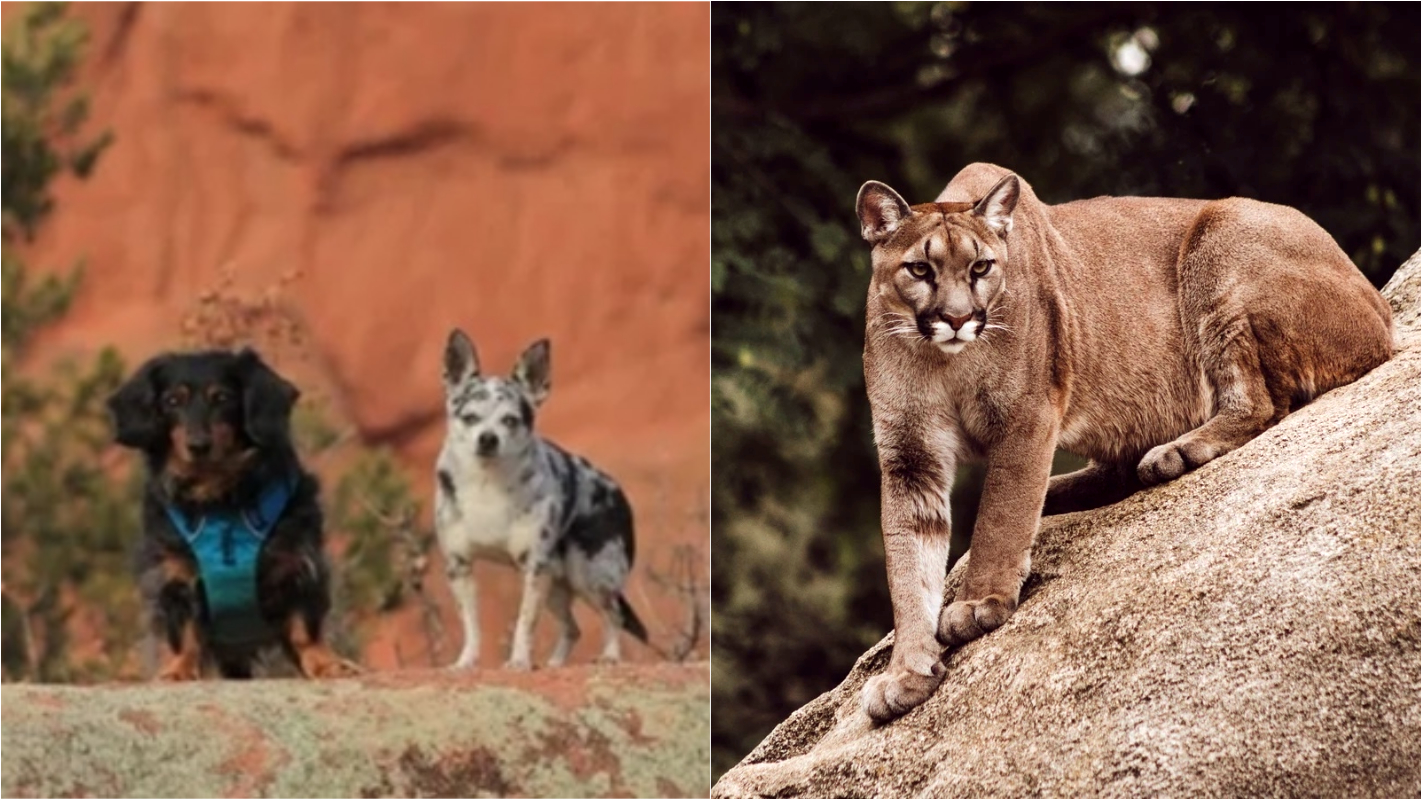OncaParda: (844, 154, 1390, 715)
